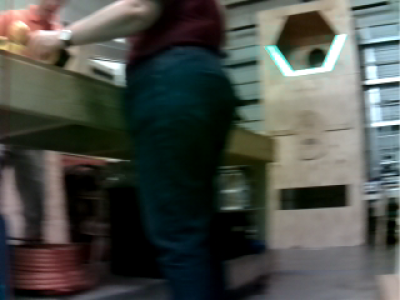target: (266, 34, 349, 77)
